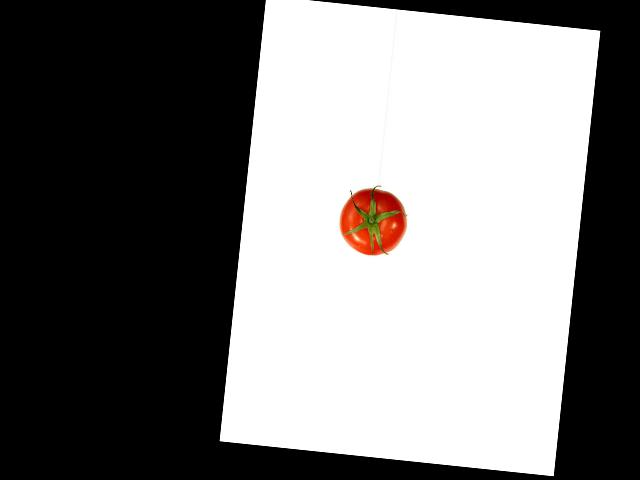tomato: (336, 185, 410, 259)
